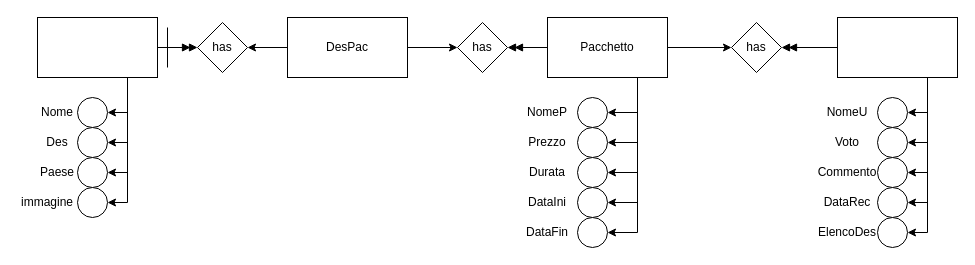
Some shapes in this 975 by 265 pixel diagram are drawn without their labels. The shapes that lost their labels are listed below. From the top down, each one's box as (x1, y1, x2, y2) in pixels, then its label:
(36, 16, 158, 78): Destinazione
(836, 16, 958, 78): RecUtente
